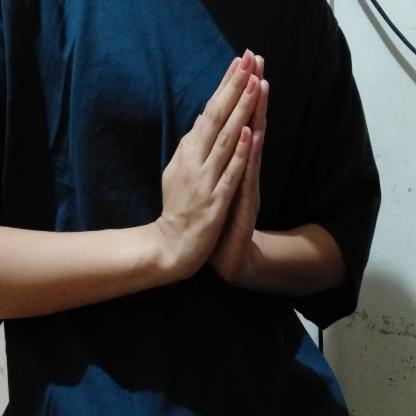sorry: (150, 44, 285, 296)
